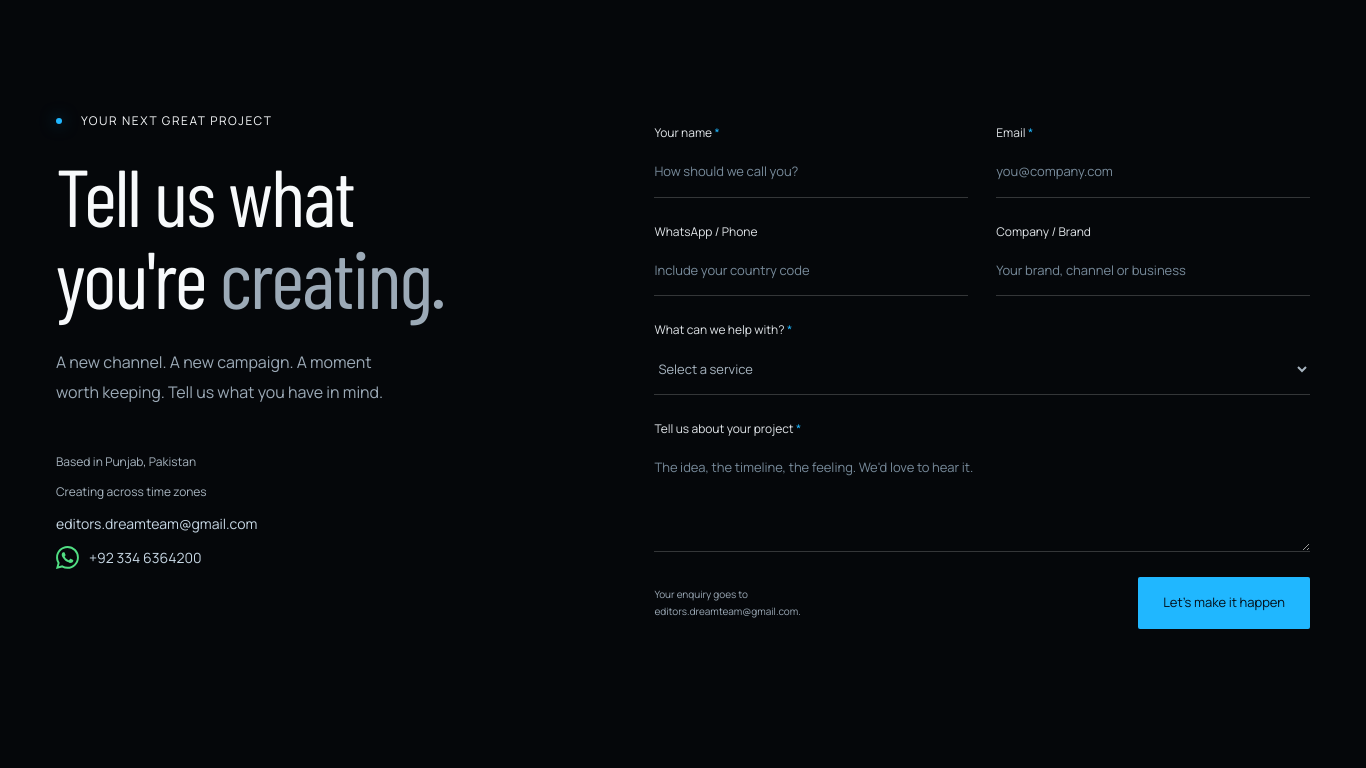
Test: Project enquiry delivery › reports a network failure without discarding the brief
The image size is (1366, 768).
Type "Test Creator" into the field with placeholder "How should we call you?". click: (811, 172)
box: [654, 147, 968, 198]
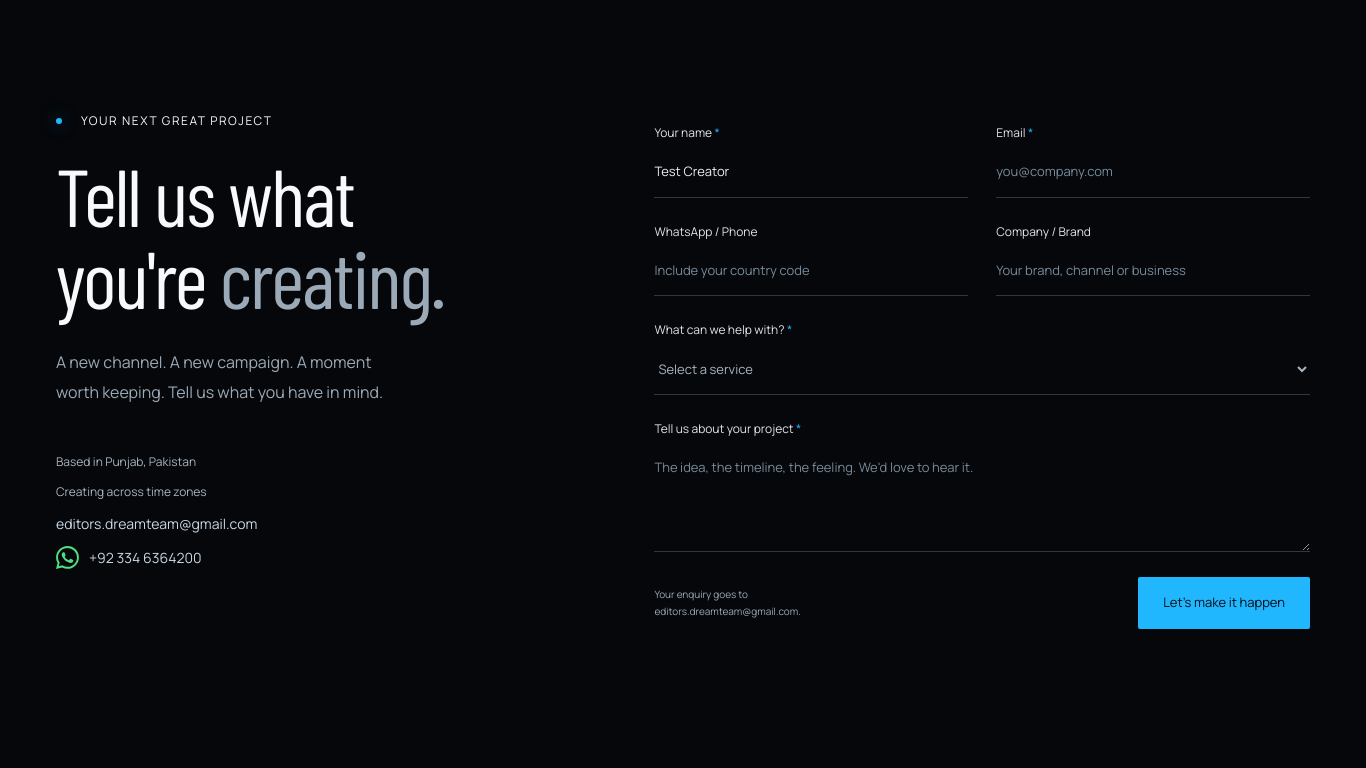
Type "test@example.com" into the field with placeholder "you@company.com". click: (1153, 172)
box: [996, 147, 1310, 198]
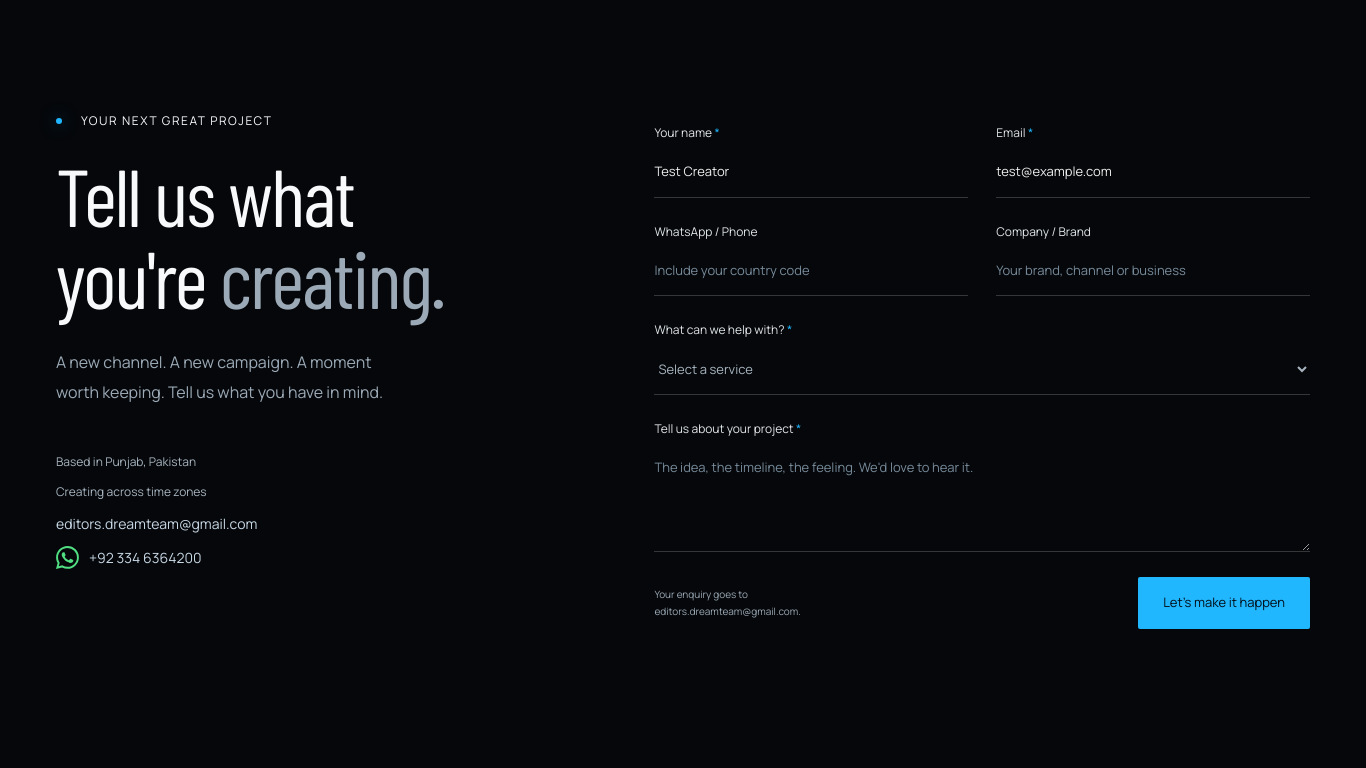
Select "Color Grading" in the dropdown. click: (982, 370)
box: [654, 344, 1310, 395]
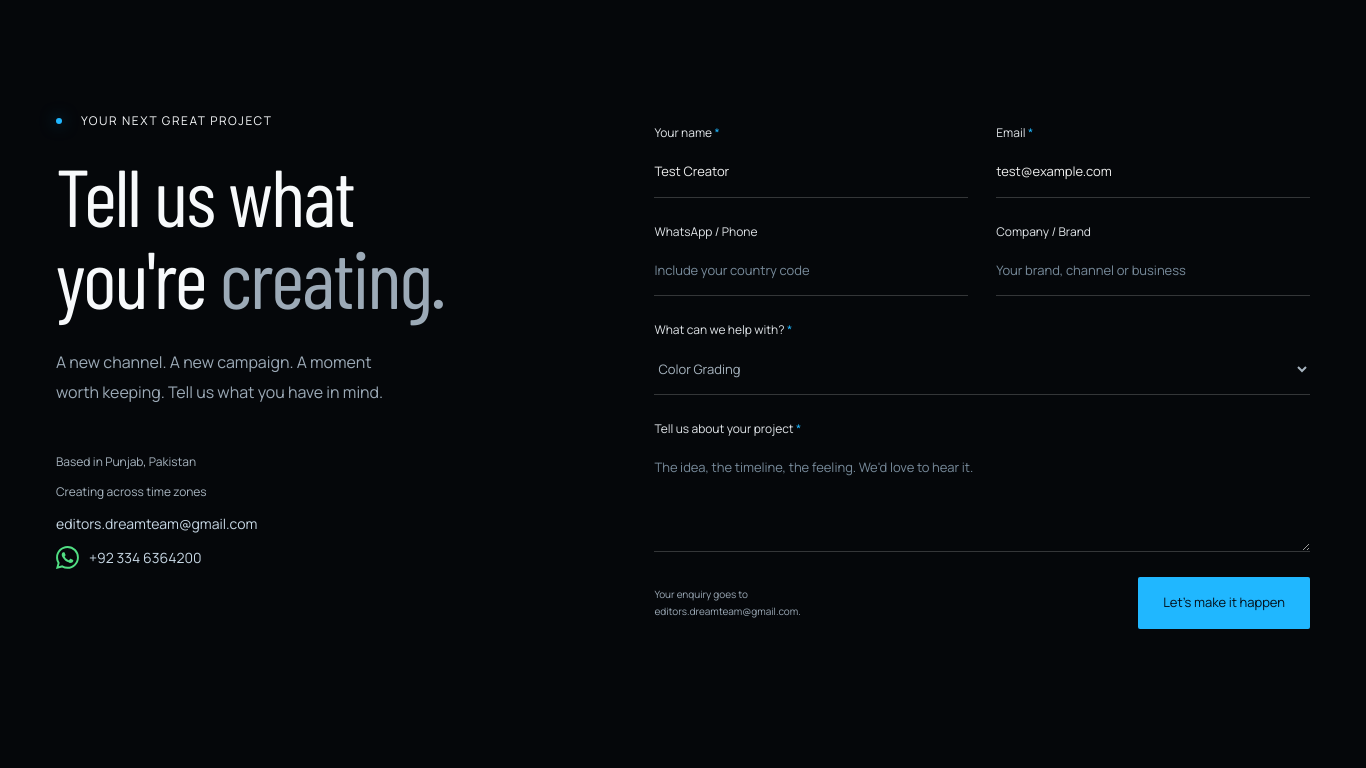
Type "A cinematic color grade for a short brand film." into the text box labelled "Tell us about your project *". click: (982, 498)
box: [654, 443, 1310, 552]
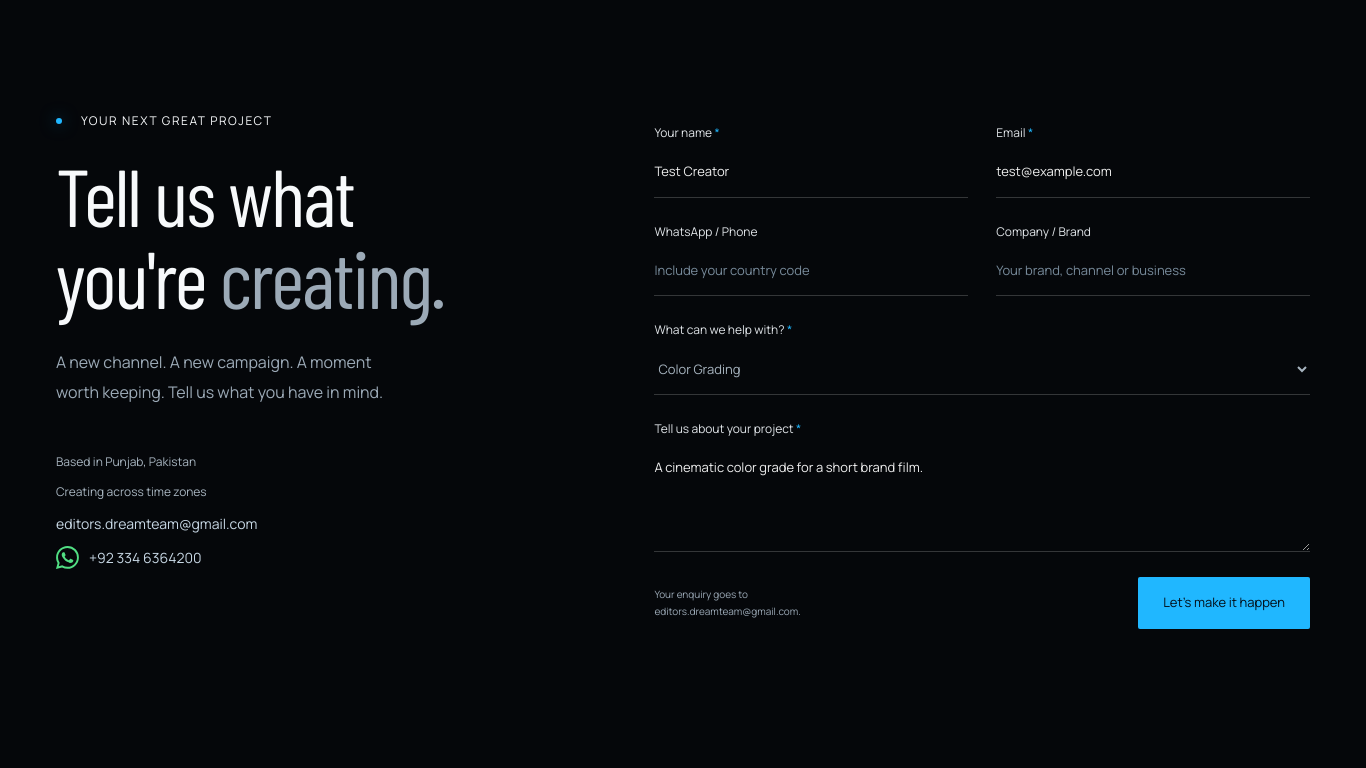
Click the button "Let’s make it happen". click: (1224, 603)
box: [1138, 577, 1310, 628]
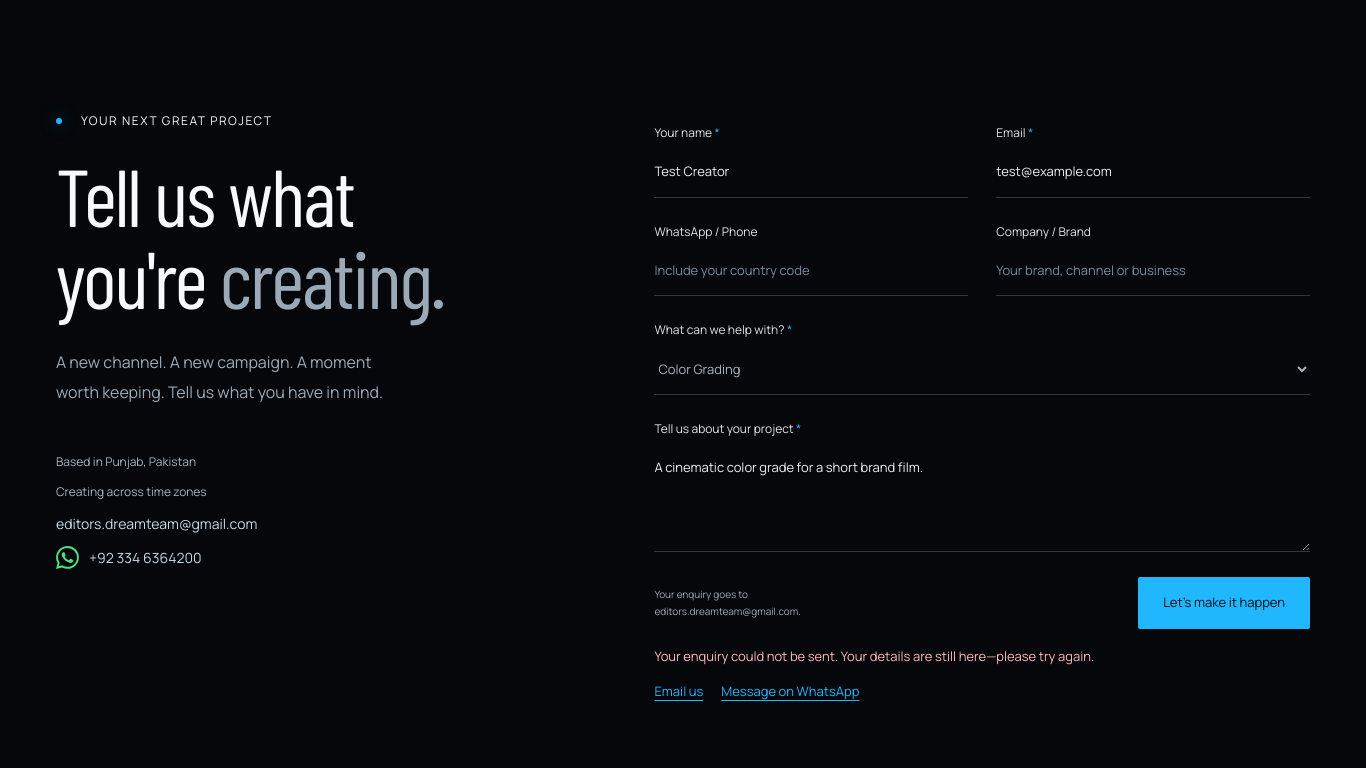
Expected: the message shows "could not be sent", [654, 646, 1094, 664]
